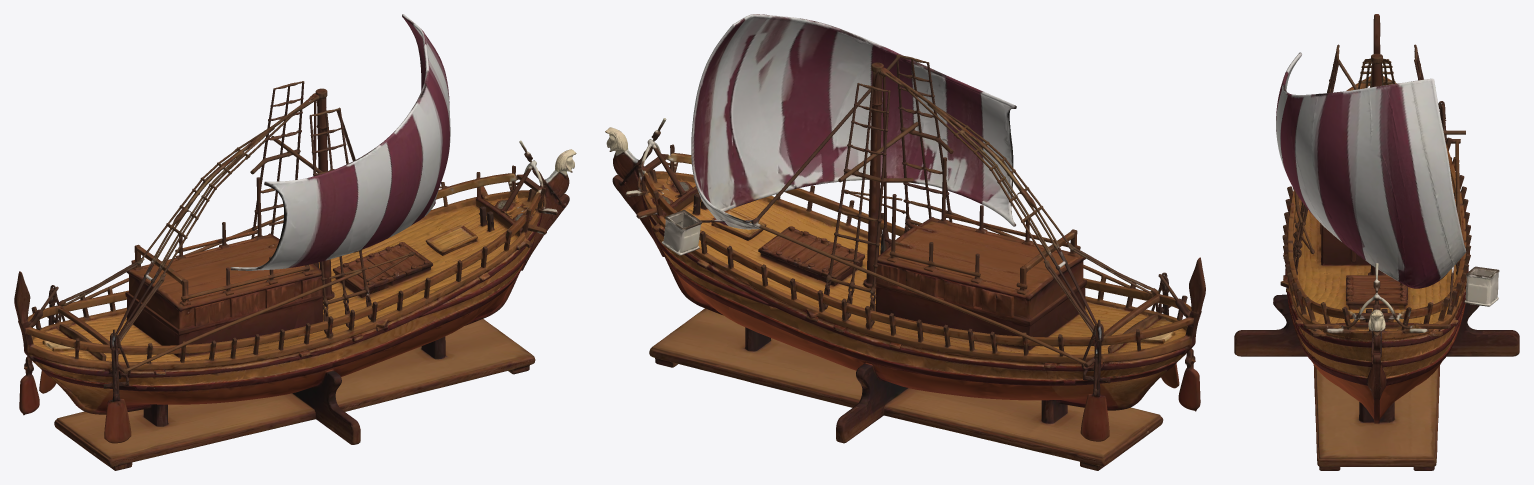
Rendered from Phoenician_Merchant_Vessel_6th_Century_BCE.min.glb.
The picture shows the model from 3 angles, left to right: view 1: azimuth 30°, elevation 25°; view 2: azimuth 150°, elevation 25°; view 3: azimuth 270°, elevation 25°; orthographic projection. The views are drawn at different scales.
Visible parts, largest first — view 1: tripo_node_0f7a3bf3-aba7-43b5-a124-0d3c8d293898; view 2: tripo_node_0f7a3bf3-aba7-43b5-a124-0d3c8d293898; view 3: tripo_node_0f7a3bf3-aba7-43b5-a124-0d3c8d293898.
Part boxes in pixels (<box>): tripo_node_0f7a3bf3-aba7-43b5-a124-0d3c8d293898: <box>14,14,576,470</box>; tripo_node_0f7a3bf3-aba7-43b5-a124-0d3c8d293898: <box>605,14,1205,470</box>; tripo_node_0f7a3bf3-aba7-43b5-a124-0d3c8d293898: <box>1234,14,1519,470</box>.
Bounding box in the file's own units: 0.9787 × 0.5613 × 0.4093.
1 material, 1 textured.
